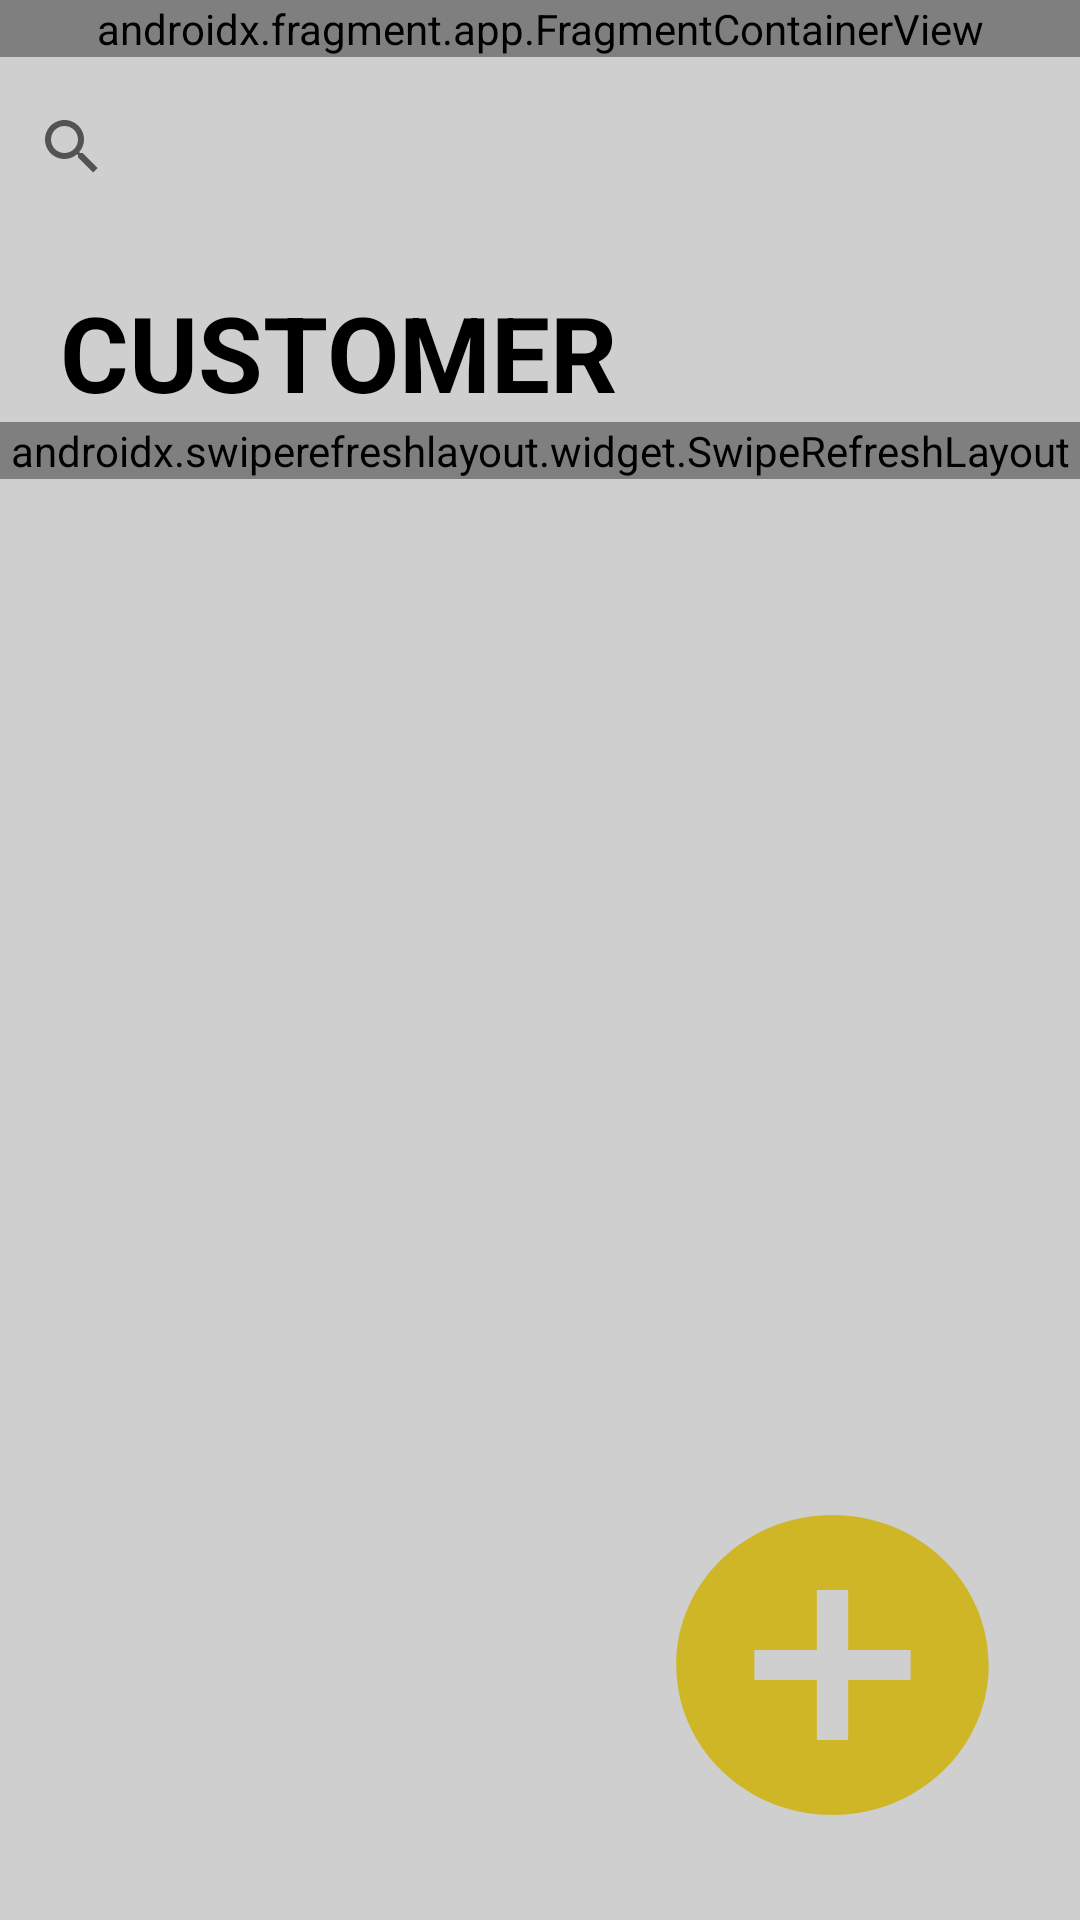

Icon click points for this 1080×1920 phone screenshot, format (x=x, y=y):
add: (x=832, y=1665)
